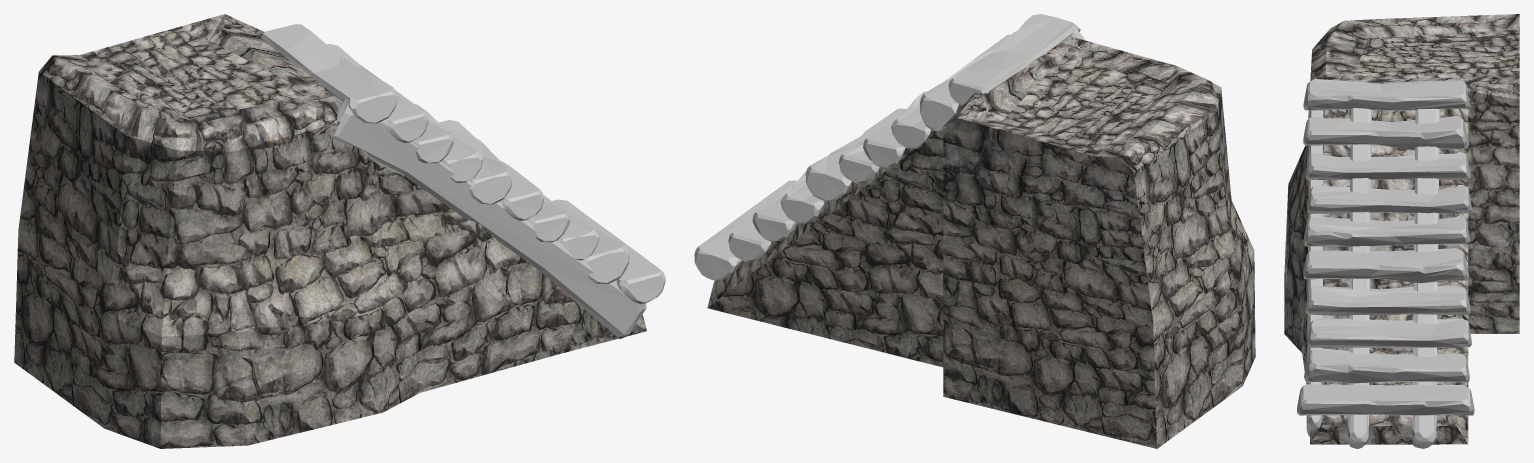
File: StoneRamp_1b_LOD1.fbx
3 views of the same model, side by side, from view 1: azimuth 30°, elevation 25°; view 2: azimuth 150°, elevation 25°; view 3: azimuth 270°, elevation 25° (orthographic). The views are drawn at different scales.
Parts seen in each view (by area): view 1: Stone, Wood; view 2: Stone, Wood; view 3: Wood, Stone.
Boxes of the visible parts, x1,y1,x2,y2 form: Stone: (14, 14, 646, 448); Wood: (261, 24, 665, 339); Stone: (707, 36, 1255, 448); Wood: (694, 14, 1085, 280); Wood: (1297, 79, 1474, 448); Stone: (1284, 14, 1519, 444).
Bounding box in the file's own units: 1015 × 484 × 574.
